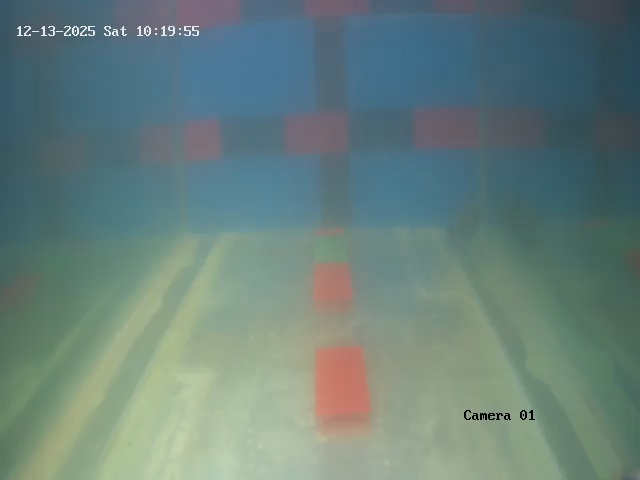fish: (434, 193, 487, 262)
